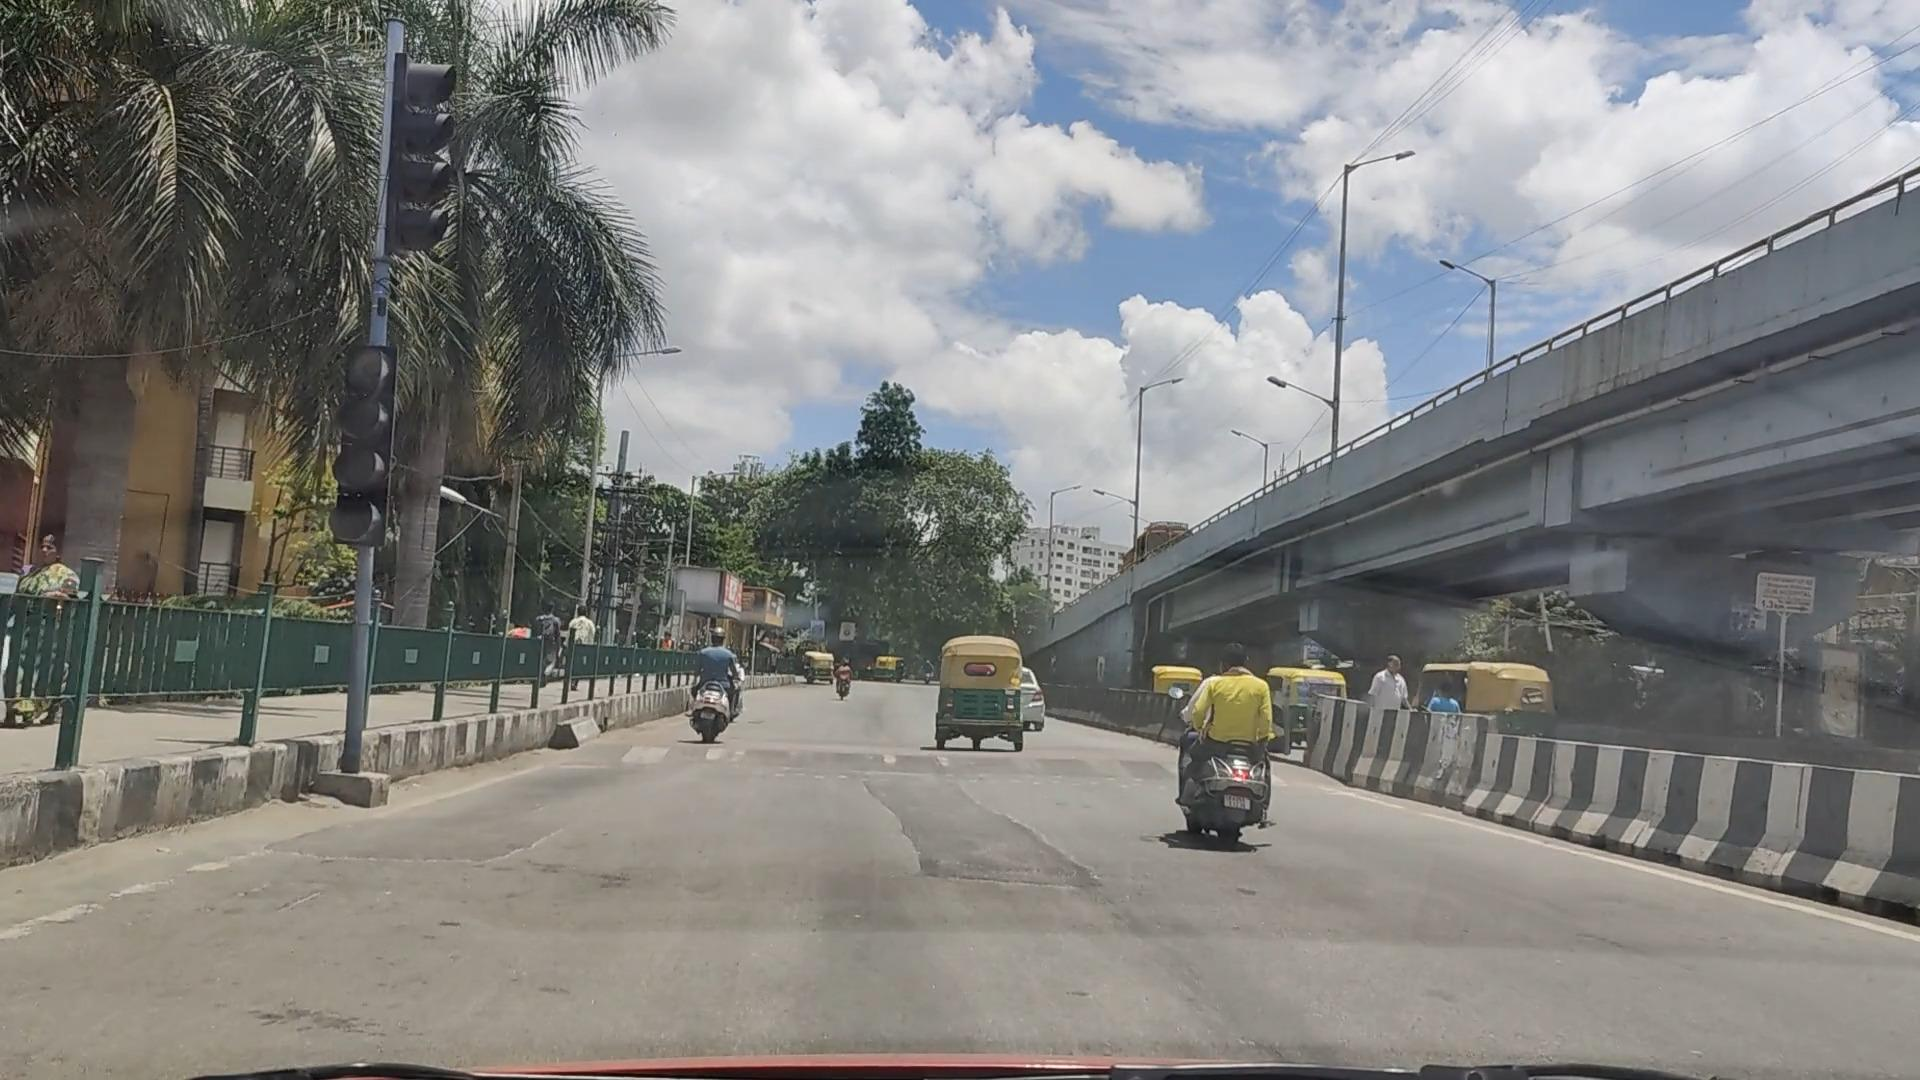LMV: (1183, 644, 1279, 858), (935, 633, 1022, 757), (700, 632, 736, 738)
SpeedBump: (592, 741, 914, 770), (1014, 746, 1168, 778)
